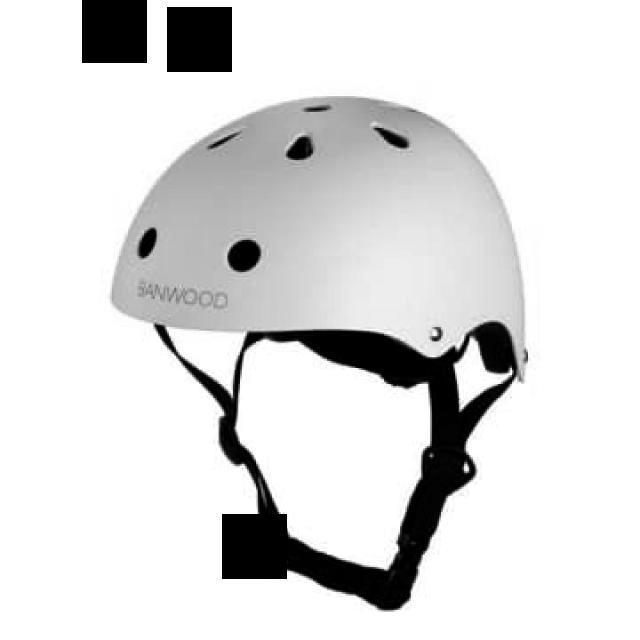helmet: (108, 94, 529, 385)
